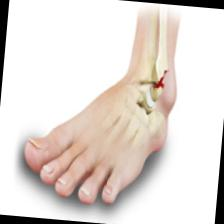stress-fracture: (124, 1, 196, 154)
